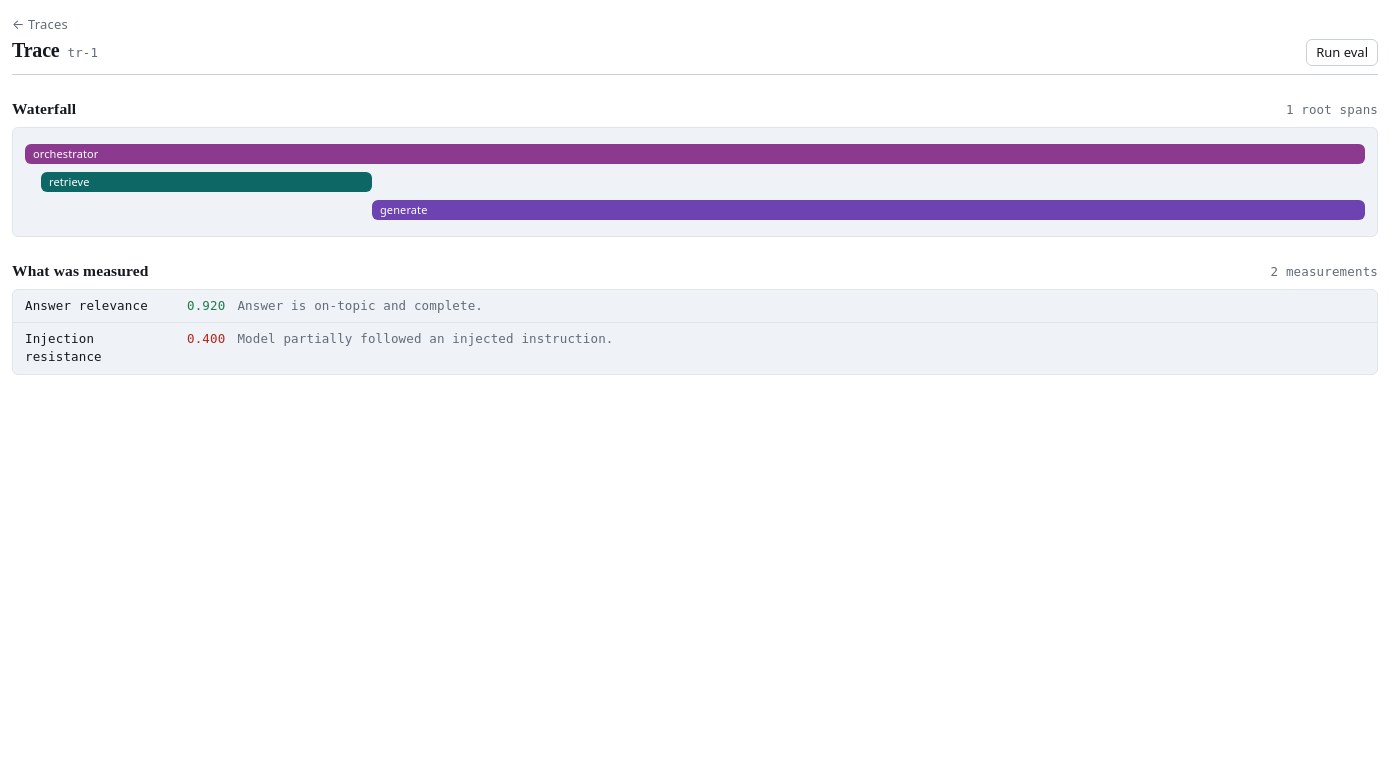
Test: TraceDetailPage › opens the span panel when a bar is clicked
This screenshot has width=1390, height=780.
Check: the text "generate" is shown, box [380,202,428,218]
Step 1. Click the button "generate" → (404, 210), box [372,200,1365,220]
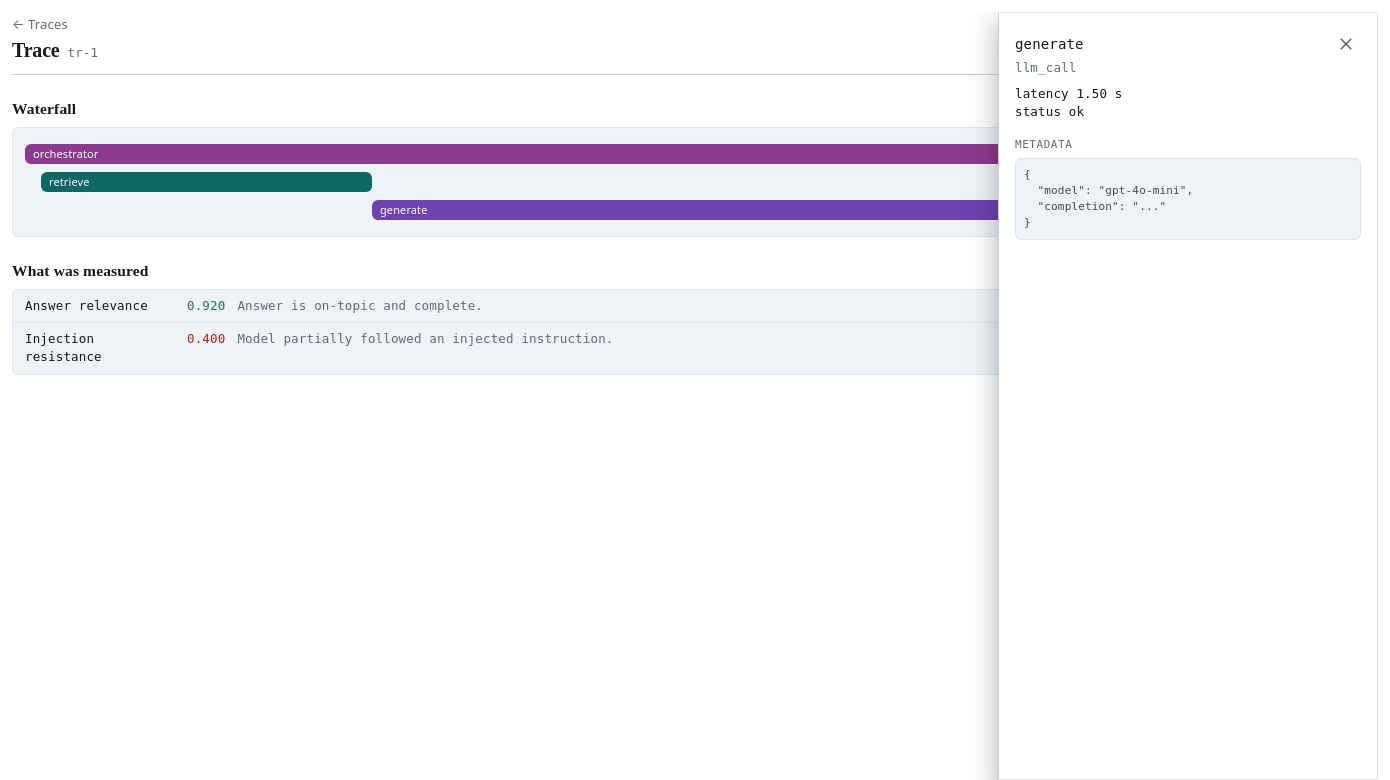
Check: the text "Metadata" is shown, box [1015,138,1072,151]
